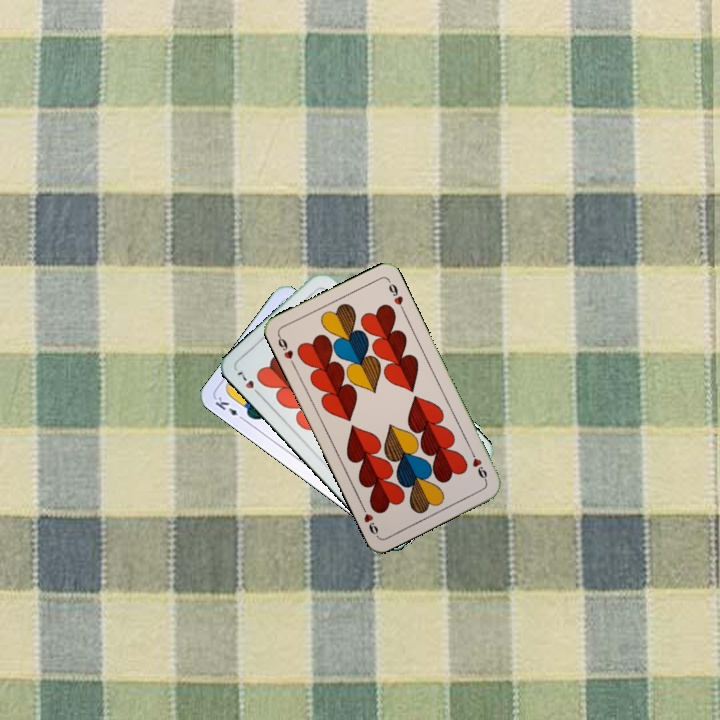EK: (211, 392, 248, 424)
H7: (233, 367, 264, 399)
H9: (466, 446, 490, 484), (274, 331, 297, 369)
